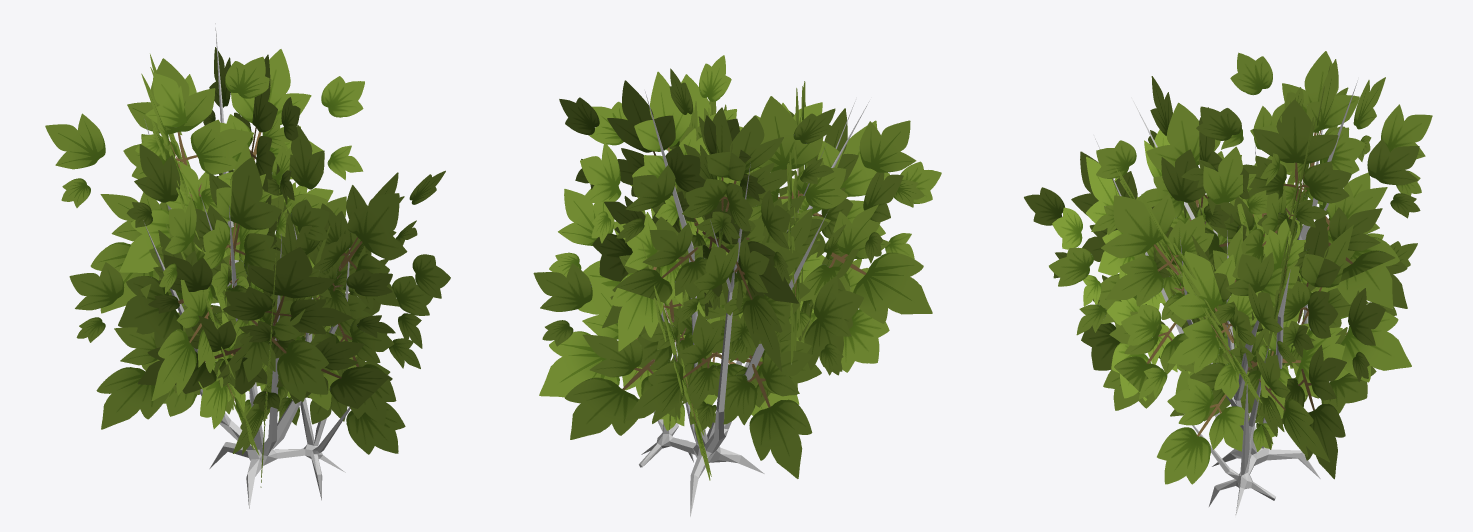
The model's file is SM_Currant.fbx.
3 renders of one model, left to right at view 1: azimuth 30°, elevation 25°; view 2: azimuth 150°, elevation 25°; view 3: azimuth 270°, elevation 25°, orthographic. The views are drawn at different scales.
Visible parts, largest first — view 1: SM_Currant; view 2: SM_Currant; view 3: SM_Currant.
Part boxes in pixels (x1,y1,x2,y2): SM_Currant: (45, 23, 450, 508); SM_Currant: (533, 55, 941, 516); SM_Currant: (1024, 51, 1432, 515).
Bounding box in the file's own units: 49.71 × 58.75 × 55.66.
